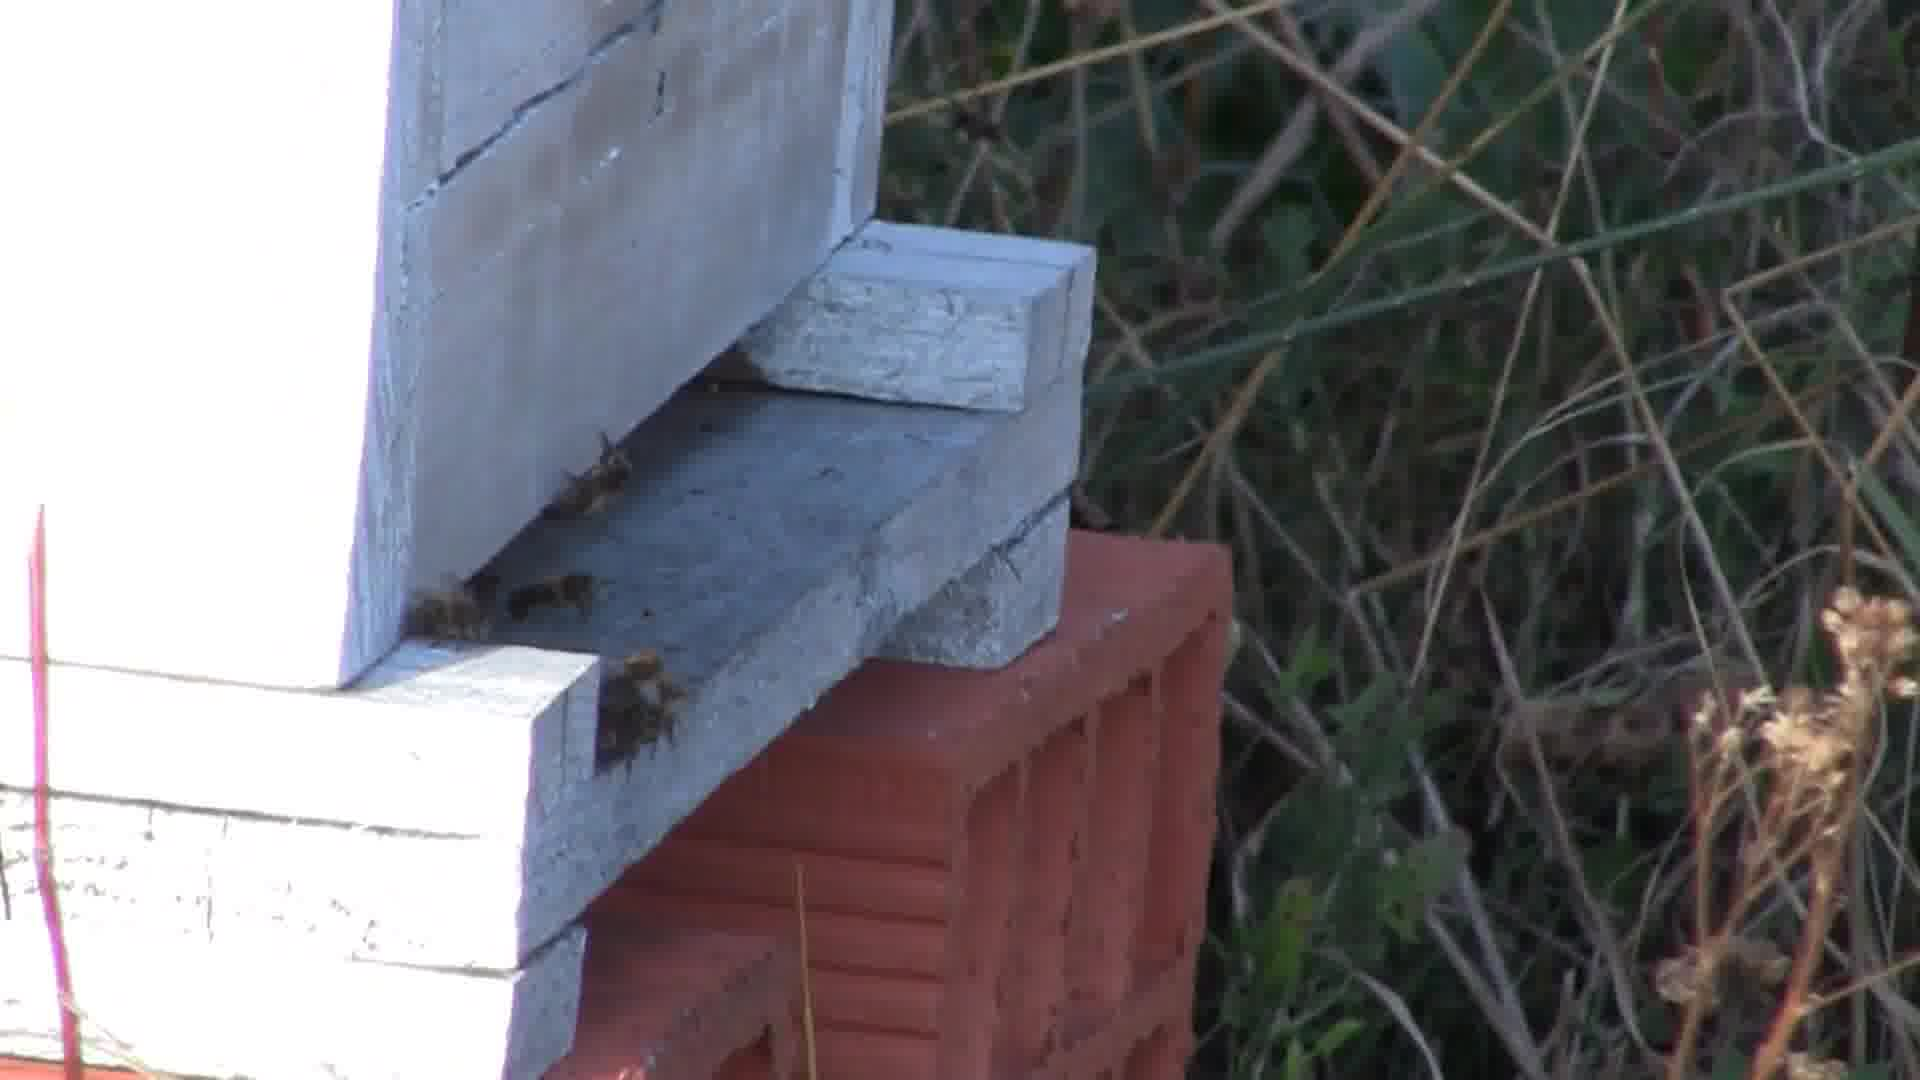bee: (605, 650, 691, 762), (516, 560, 607, 634), (558, 436, 632, 517)
